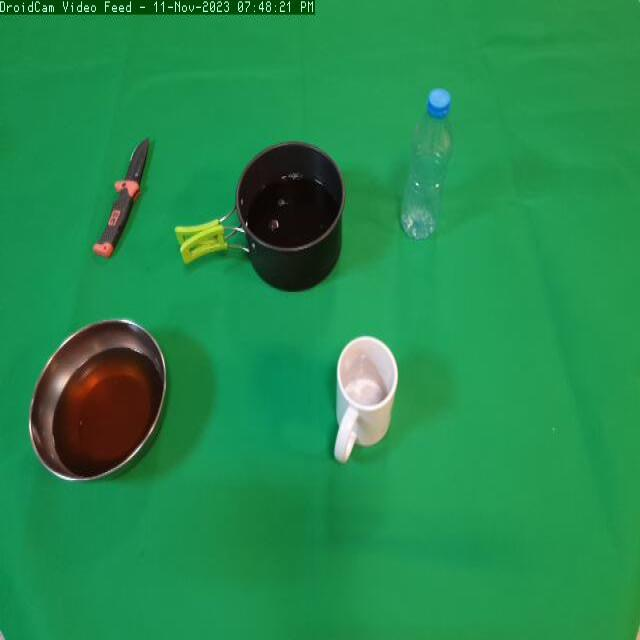bottle: (391, 80, 460, 264)
cup: (324, 331, 401, 474)
fullbowl: (20, 319, 179, 503)
fullpot: (172, 138, 349, 298)
knife: (92, 128, 160, 270)
